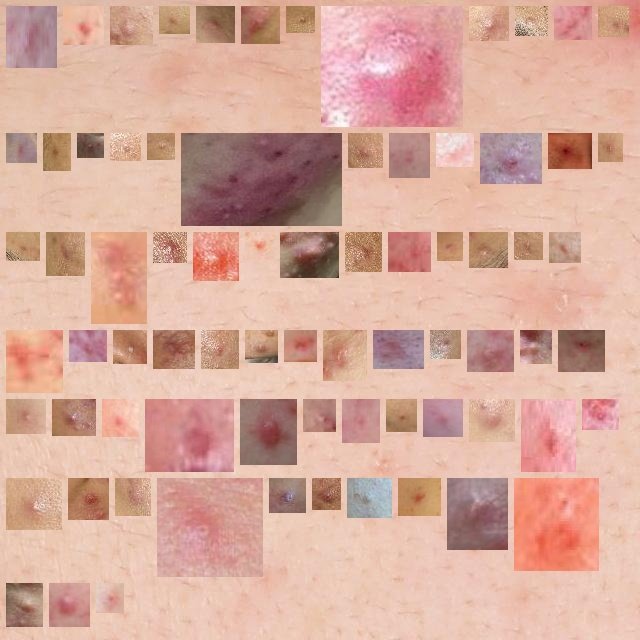papule: (329, 14, 455, 119), (189, 141, 334, 218), (165, 486, 255, 569), (522, 484, 591, 563), (153, 407, 226, 464), (99, 240, 139, 316), (455, 486, 500, 542), (529, 407, 568, 464), (248, 407, 289, 457), (14, 338, 55, 385), (14, 14, 49, 60), (488, 141, 534, 176), (14, 486, 54, 522), (288, 240, 331, 270), (201, 240, 231, 273), (331, 338, 359, 373), (566, 338, 597, 365), (477, 407, 507, 434), (475, 338, 506, 364), (381, 338, 416, 361), (397, 141, 422, 170), (57, 591, 82, 619), (355, 486, 384, 510), (76, 486, 101, 512), (396, 240, 423, 264), (54, 240, 77, 268), (118, 14, 145, 37), (350, 407, 372, 435), (161, 338, 187, 361), (406, 486, 433, 508), (60, 407, 88, 428), (14, 591, 35, 619), (71, 14, 96, 37), (556, 141, 584, 161), (431, 407, 455, 429), (249, 14, 272, 36), (209, 338, 231, 361), (353, 240, 374, 264), (204, 14, 227, 35), (110, 407, 131, 429), (477, 240, 500, 260), (477, 14, 501, 33), (14, 407, 38, 426), (123, 486, 143, 508), (277, 486, 298, 505), (562, 14, 584, 32), (444, 141, 466, 159), (356, 141, 375, 160), (47, 141, 63, 163), (77, 338, 99, 354), (121, 338, 139, 356), (590, 407, 611, 422), (253, 338, 270, 355), (311, 407, 328, 424), (528, 338, 544, 356), (292, 338, 309, 354), (161, 240, 179, 255), (394, 407, 409, 424), (557, 240, 573, 255), (523, 14, 540, 28), (14, 240, 32, 253), (606, 14, 621, 29), (253, 235, 266, 252), (14, 141, 29, 155), (320, 486, 333, 502), (438, 338, 453, 351), (167, 14, 182, 26), (118, 141, 133, 153), (104, 591, 116, 605), (522, 240, 535, 252), (294, 14, 307, 25), (155, 141, 167, 152), (445, 240, 455, 253), (606, 141, 615, 154), (85, 141, 96, 150)
